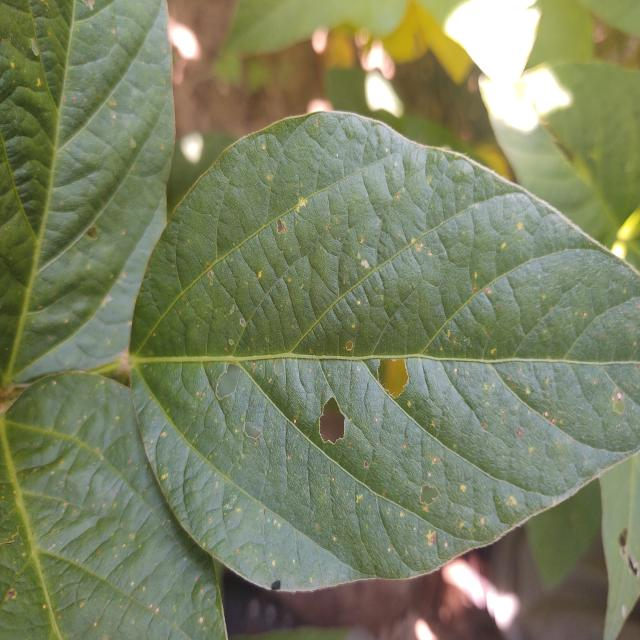Soybean: (126, 110, 640, 596)
downey_mildew: (316, 397, 348, 449), (377, 356, 410, 398), (168, 21, 200, 61), (410, 234, 443, 271), (618, 526, 637, 577), (215, 363, 241, 400), (180, 132, 203, 164), (419, 483, 440, 507), (243, 420, 261, 439), (611, 396, 626, 416), (85, 223, 99, 241), (274, 359, 286, 377), (29, 37, 40, 56), (426, 529, 437, 546), (618, 529, 627, 547), (276, 218, 286, 234), (298, 197, 307, 209), (207, 270, 214, 285), (345, 341, 354, 351), (361, 259, 370, 269), (509, 495, 517, 506), (355, 494, 363, 504), (7, 591, 16, 599), (516, 221, 524, 230), (105, 294, 113, 303), (616, 391, 623, 401), (161, 473, 169, 481), (239, 318, 246, 327), (459, 484, 466, 493), (130, 139, 136, 149), (257, 269, 263, 279), (490, 348, 497, 356), (517, 428, 524, 436), (36, 77, 41, 87), (416, 244, 422, 252), (356, 252, 362, 260), (525, 387, 531, 395), (410, 237, 416, 245), (479, 517, 485, 525), (462, 337, 468, 345), (430, 419, 435, 428), (459, 521, 464, 530), (486, 289, 492, 296), (360, 236, 365, 244), (528, 446, 533, 454), (474, 271, 478, 280), (364, 461, 369, 468), (229, 339, 234, 346), (611, 395, 616, 402), (501, 242, 506, 249), (544, 411, 549, 418), (551, 417, 556, 424), (402, 443, 407, 450), (79, 602, 84, 608), (266, 175, 271, 181), (261, 144, 266, 150), (356, 300, 361, 306), (52, 380, 57, 386), (427, 471, 432, 477), (293, 418, 297, 425), (206, 262, 210, 268), (473, 286, 477, 292), (482, 424, 486, 430), (583, 312, 587, 318), (155, 607, 159, 613), (396, 194, 400, 200), (199, 617, 203, 623), (272, 560, 276, 566), (333, 536, 337, 542), (387, 547, 391, 553), (452, 339, 456, 344), (439, 347, 443, 352), (42, 604, 46, 609), (454, 368, 458, 373), (93, 622, 97, 627), (131, 581, 134, 586)
